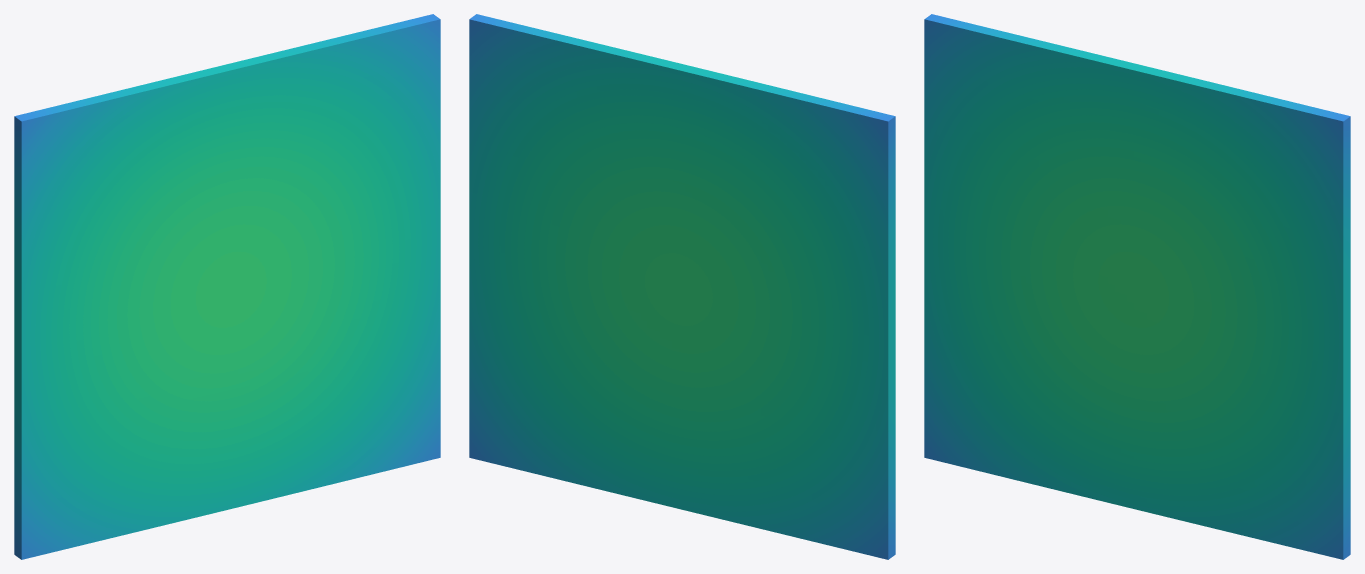
Rendered from DISP_Ti-6Al-4V_3mm.gltf.
The picture shows the model from 3 angles, left to right: view 1: azimuth 30°, elevation 25°; view 2: azimuth 150°, elevation 25°; view 3: azimuth 330°, elevation 25°; orthographic projection.
Visible parts, largest first — view 1: Renderer Node; view 2: Renderer Node; view 3: Renderer Node.
Part boxes in pixels (x1,y1,x2,y2): Renderer Node: (14,14,440,559); Renderer Node: (469,14,895,559); Renderer Node: (924,14,1350,559).
Size of the model in its own units: 108 by 108 by 3.29.
1 material, 1 textured.
